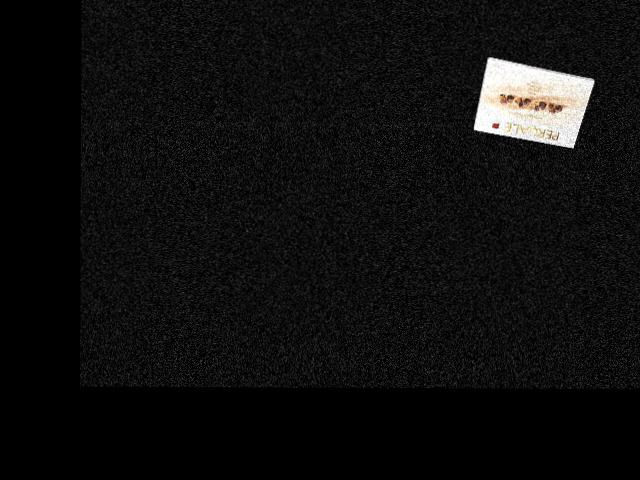chocolate: (478, 53, 589, 147)
